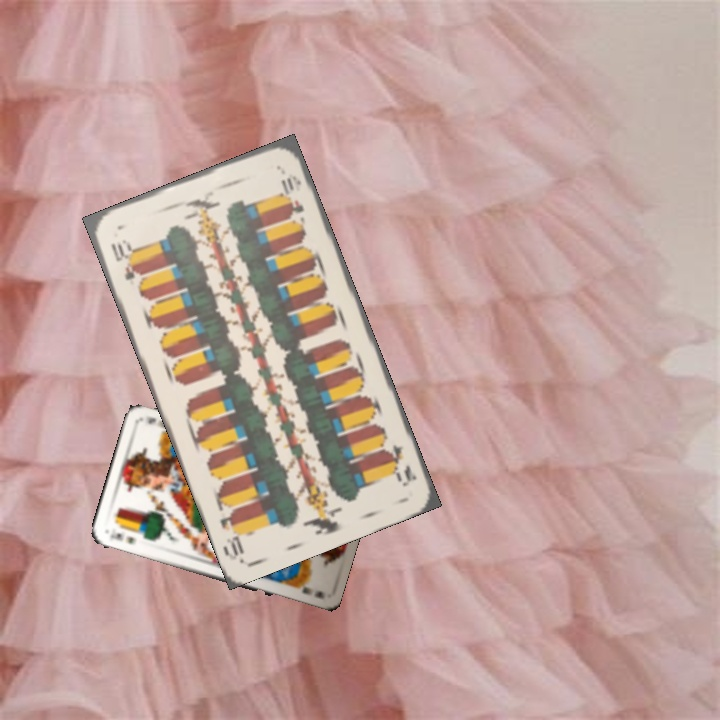E10: (379, 435, 420, 489), (106, 235, 140, 284)
EK: (107, 529, 139, 547)
